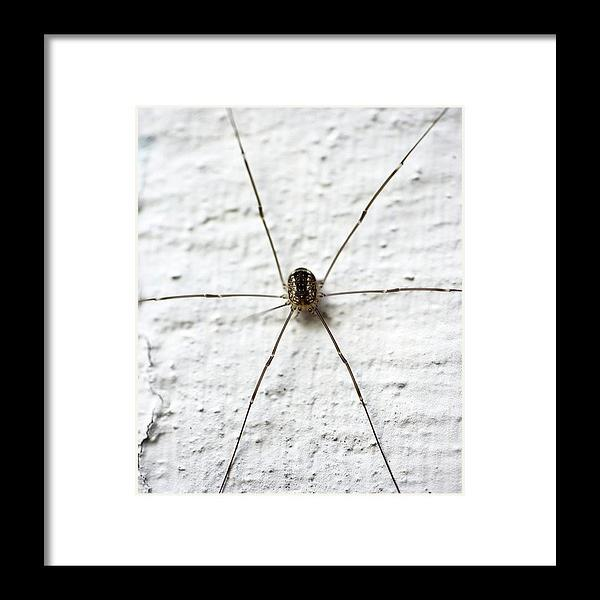Daddy Long Legs Spider: (142, 109, 459, 490)
